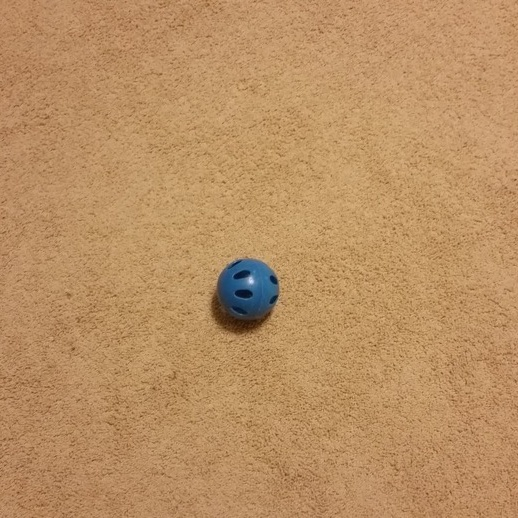ball: (211, 255, 282, 325)
